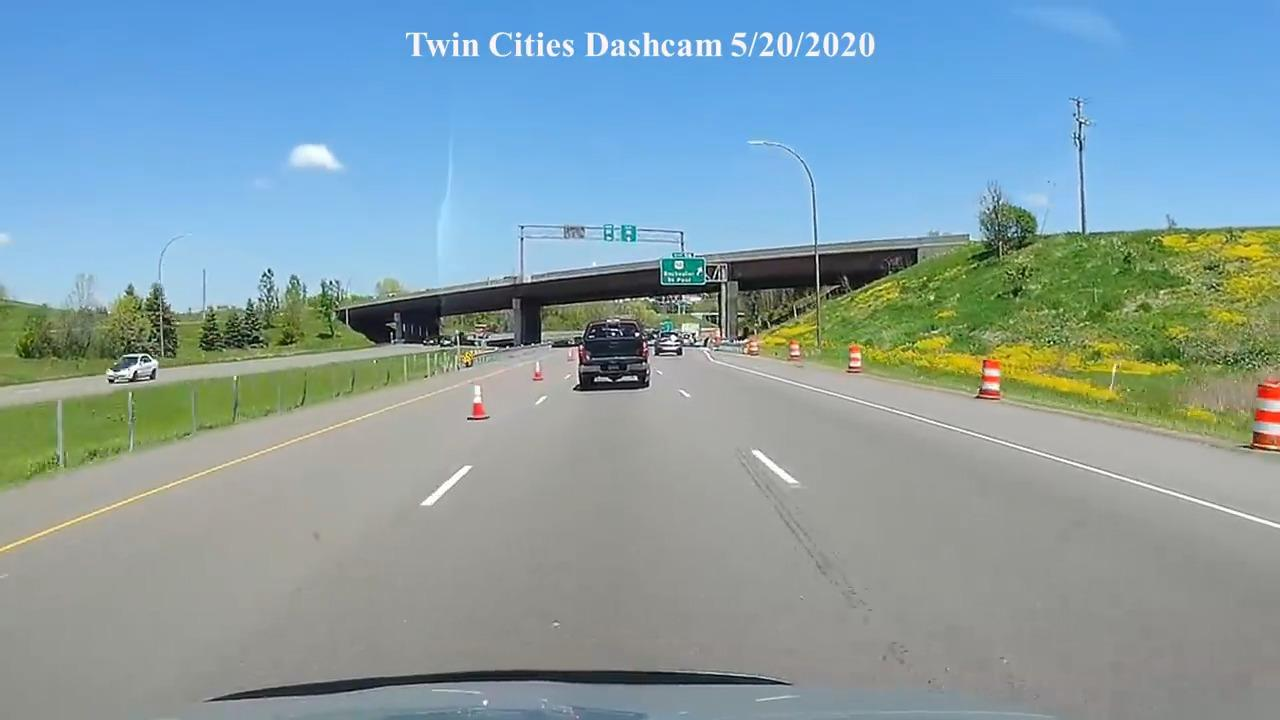car: (575, 317, 652, 390), (107, 354, 158, 384), (656, 333, 683, 357), (485, 333, 514, 348)
traffic cone: (1240, 377, 1280, 454), (974, 358, 1004, 401), (467, 383, 490, 420), (844, 343, 863, 375), (788, 339, 803, 362), (533, 361, 544, 381)
